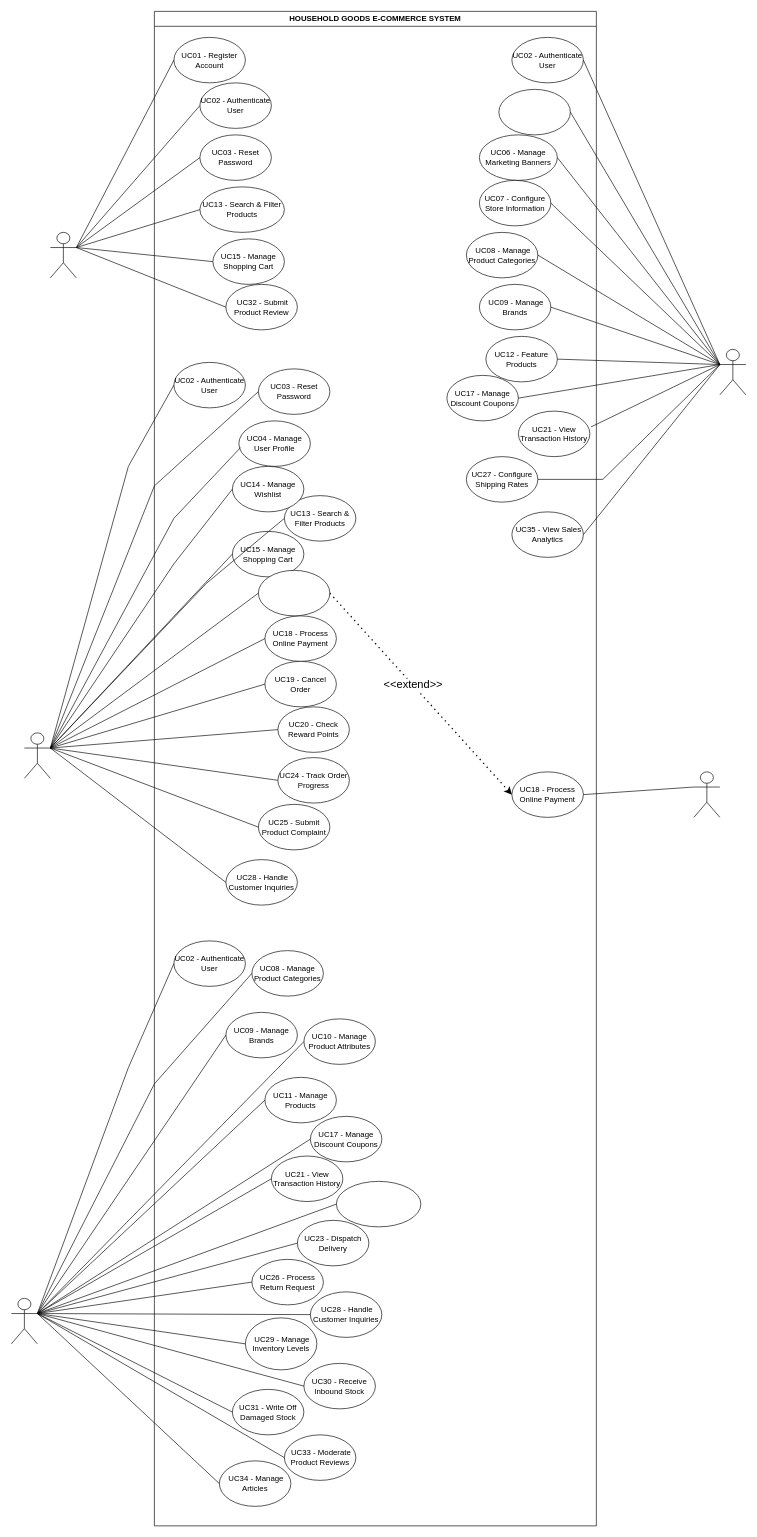
Image size: 757x1537. Some labels were removed from this diagram. The centre of each missing label's shape, as x and y in pixels:
"Admin" belongs at [732,372].
"Customer" belongs at [37,755].
"Guest" belongs at [63,255].
"Payment Sandbox" belongs at [706,794].
"Staff" belongs at [24,1321].
"UC05 - Manage User Accounts" belongs at [534,112].
"UC16 - Place Order" belongs at [294,593].
"UC22 - Process Orders" belongs at [378,1204].
